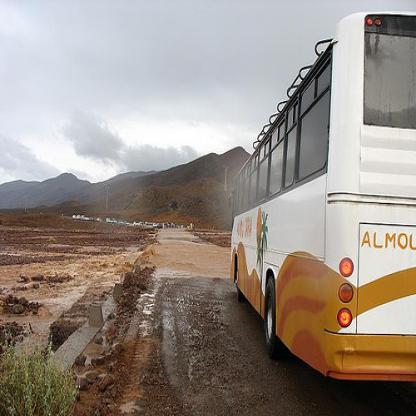bus: (230, 11, 415, 387)
